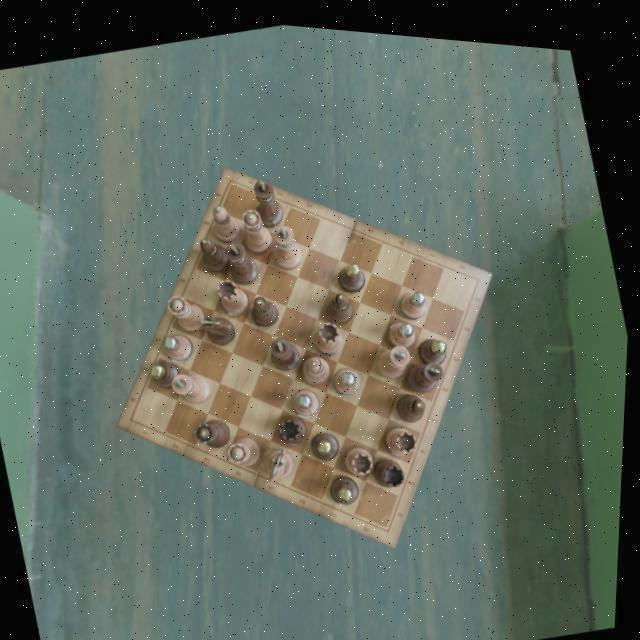chess-table-corners: (212, 162, 252, 200), (370, 500, 410, 538), (462, 252, 492, 290), (124, 398, 155, 434)
